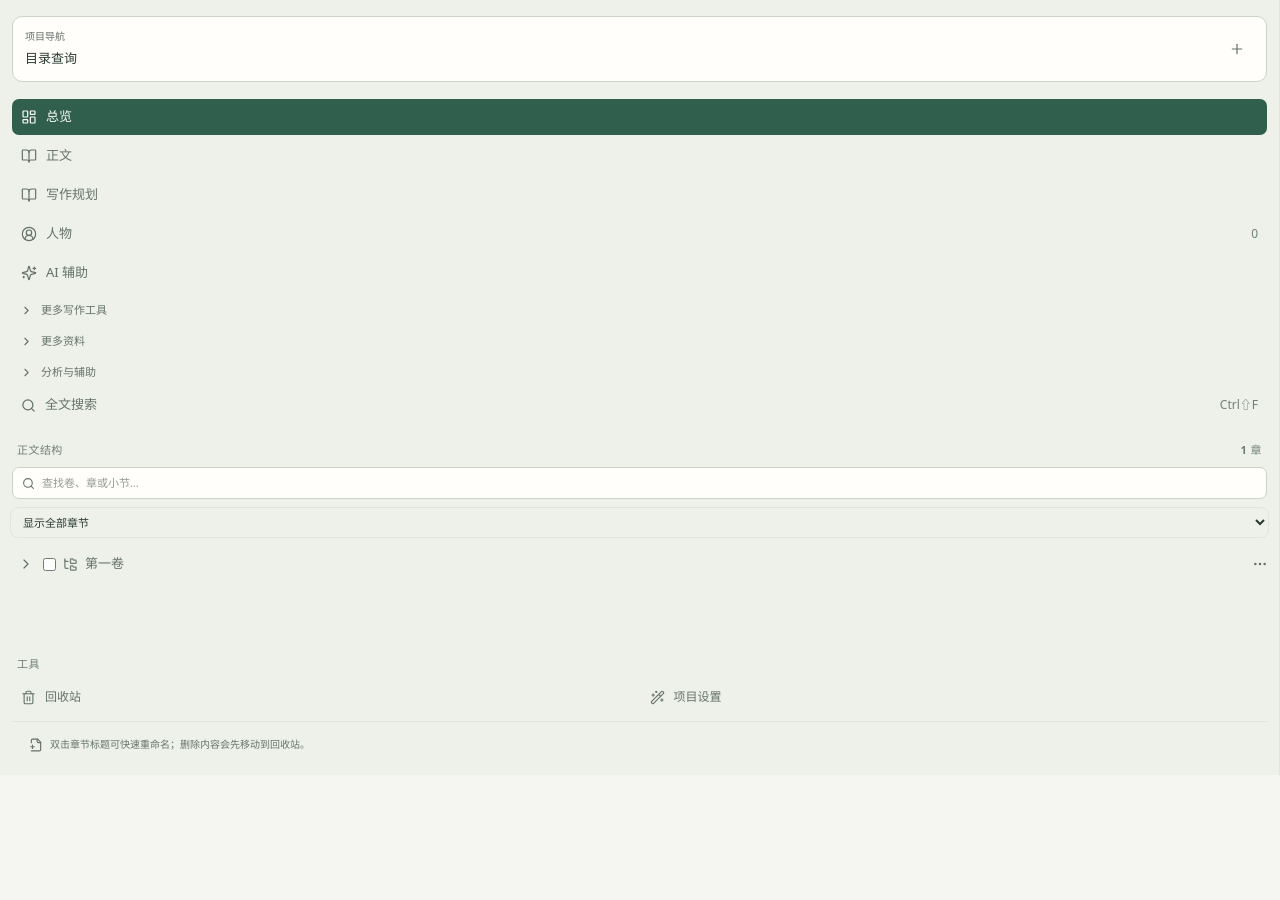
finds a chapter inside a collapsed volume, opens it, and clears search with Escape
The image size is (1280, 900).
Expected: the button "第一章" is not shown
In the field named "查找章节": (650, 483) [42,475,1257,491], type "第一章"
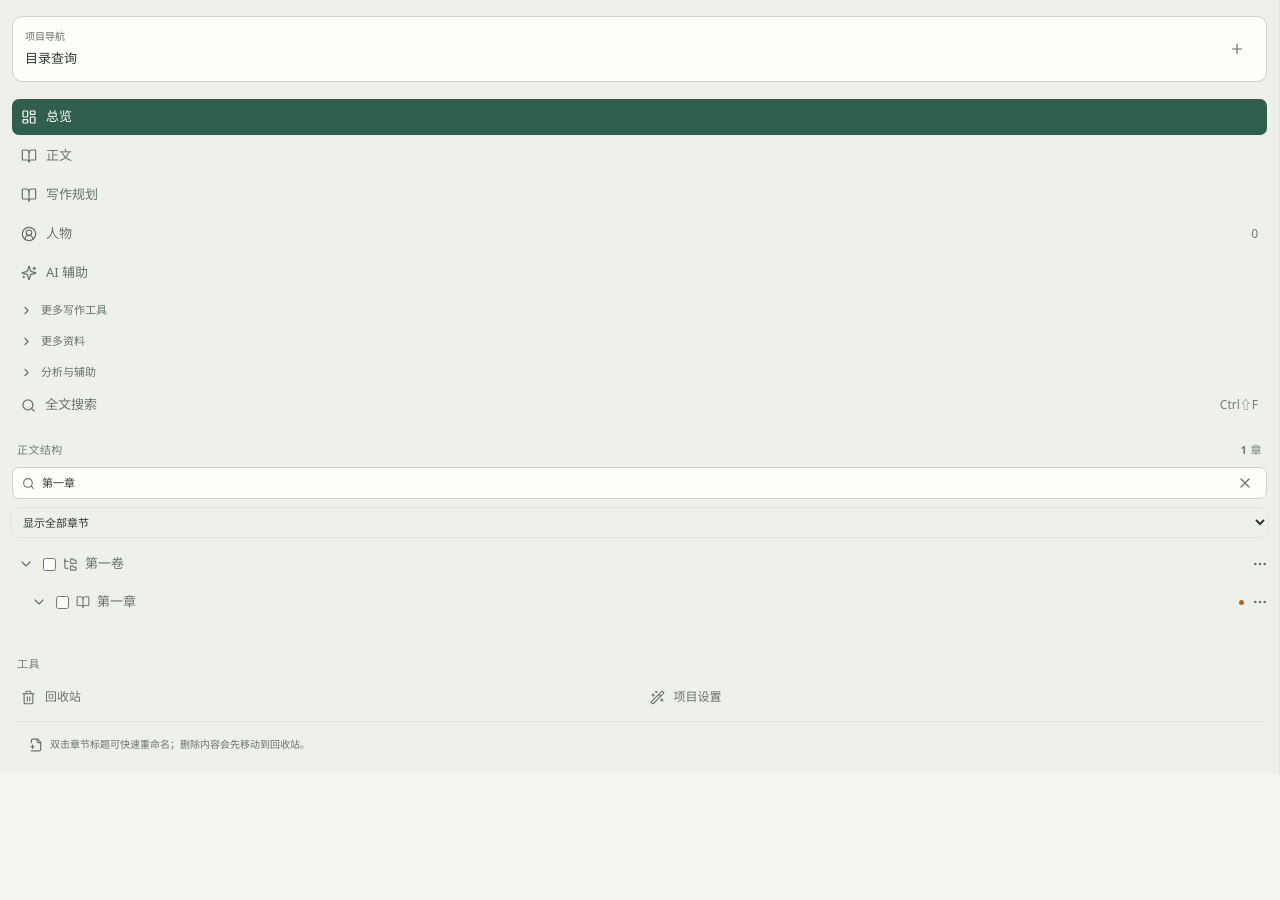
Click the button "第一章": (117, 601) [76,592,1244,612]
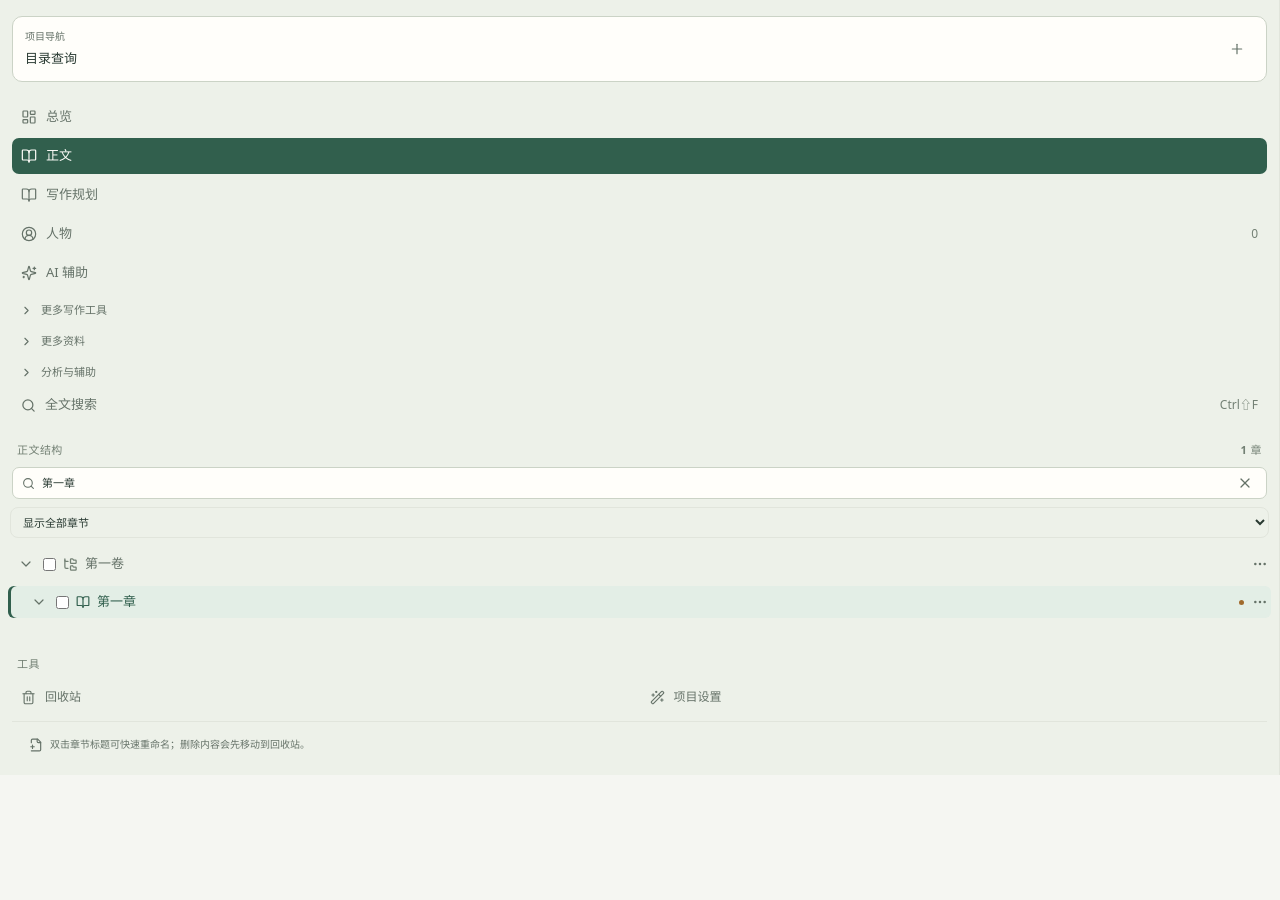
Replace the text in the field named "查找章节" with "不存在": (634, 483) [42,475,1226,491]
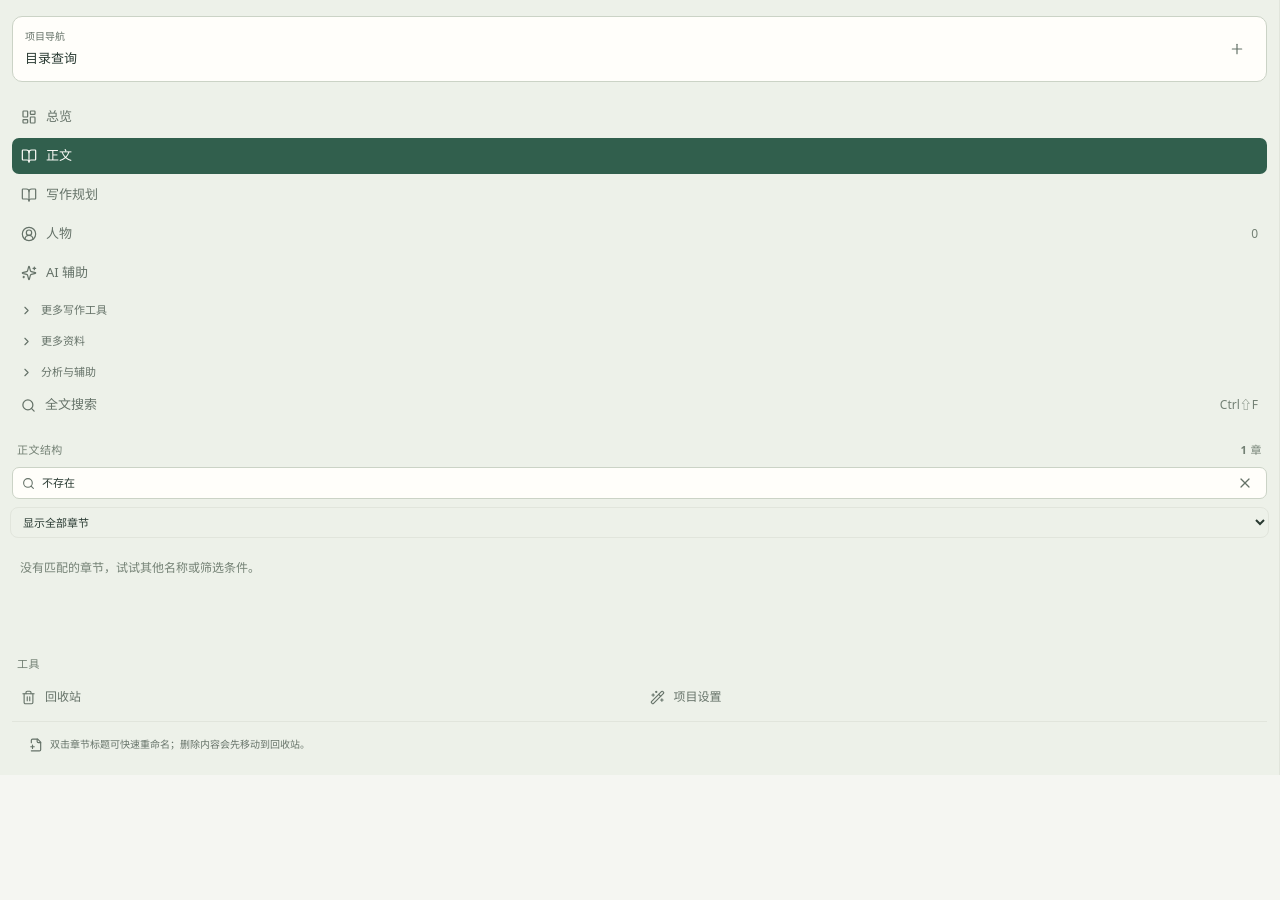
Result: the text "没有匹配的章节，试试其他名称或筛选条件。" is shown at [20,559,260,576]
Press Escape in the field named "查找章节", box [42,475,1226,491]
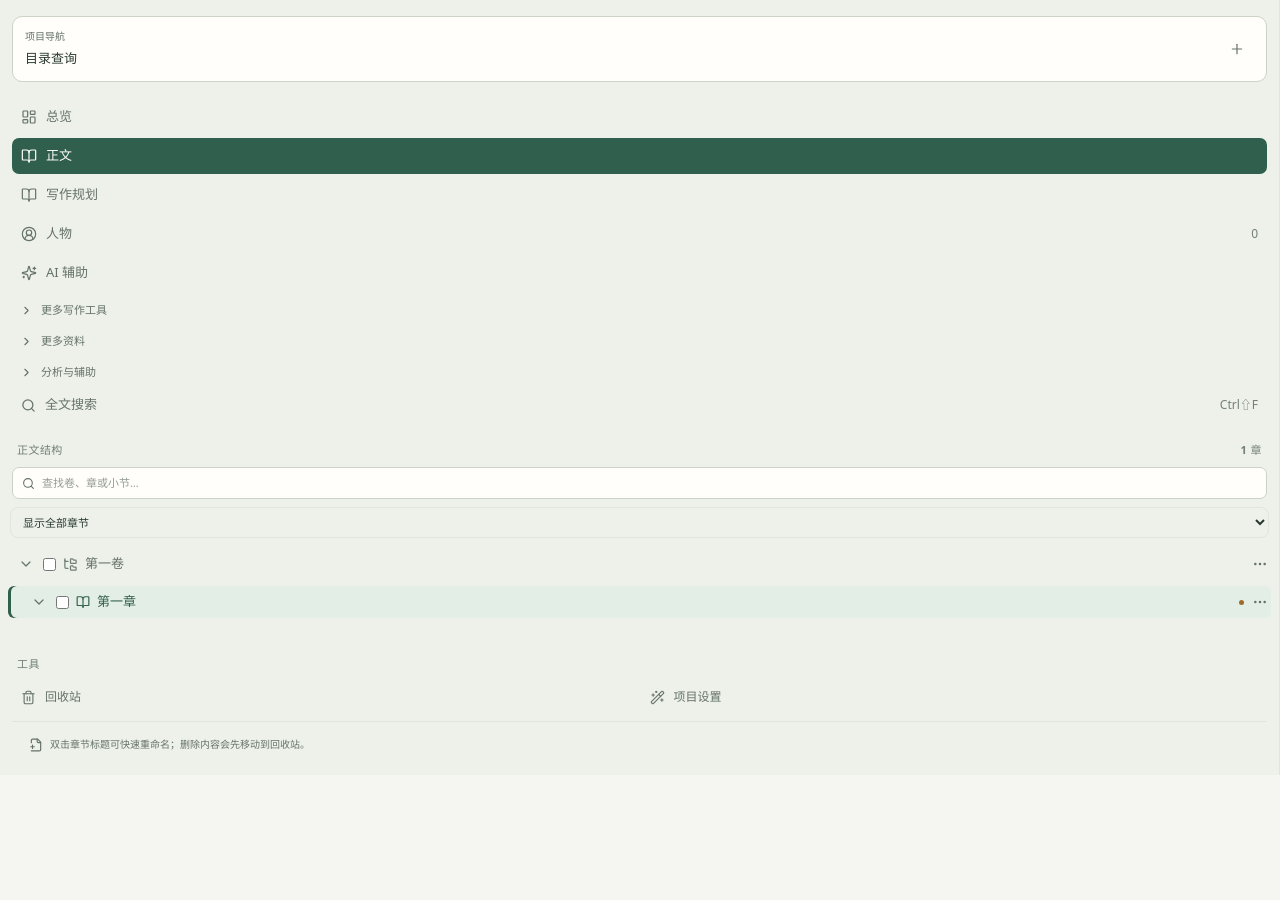
Result: the field named "查找章节" is empty at [42,475,1257,491]
Result: the button "第一章" is shown at [76,592,1244,612]
